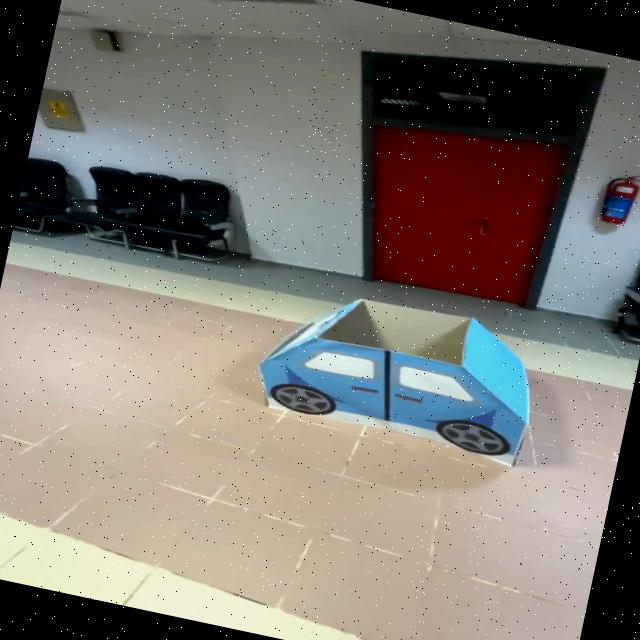blue_car: (211, 261, 573, 484)
